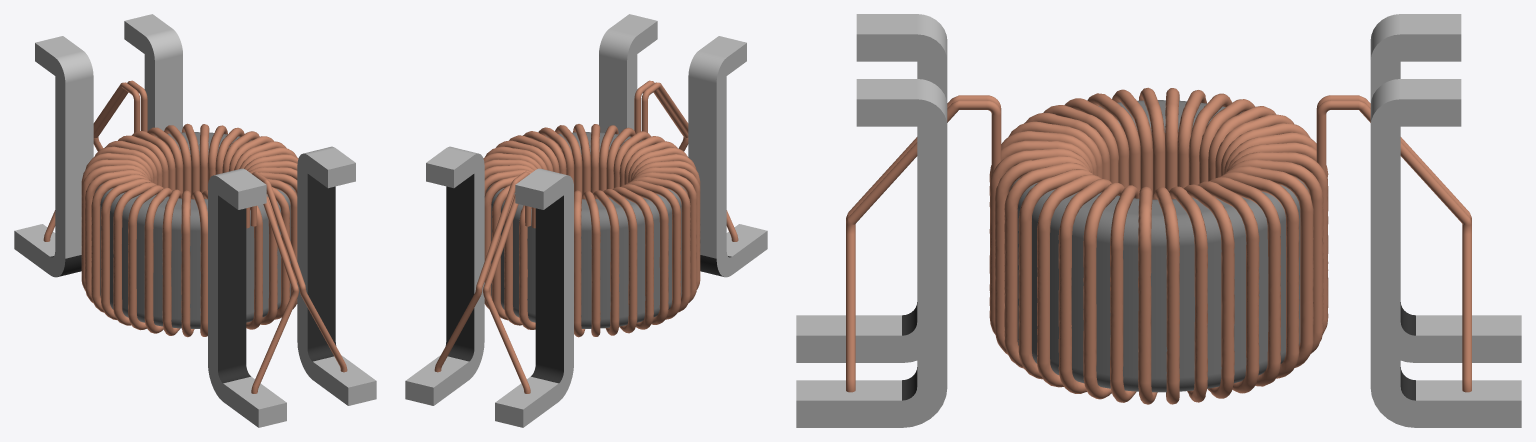
Rendered from WE-UCF SMT Common Mode Line Filter.gltf.
The picture shows the model from 3 angles, left to right: view 1: azimuth 30°, elevation 25°; view 2: azimuth 150°, elevation 25°; view 3: azimuth 270°, elevation 25°; orthographic projection. The views are drawn at different scales.
Visible parts, largest first — view 1: 1; view 2: 1; view 3: 1.
Boxes of the visible parts, x1,y1,x2,y2 form: 1: [14, 14, 376, 427]; 1: [405, 14, 767, 427]; 1: [796, 14, 1521, 427].
Bounding box in the file's own units: 0.0028 × 0.003 × 0.006.
